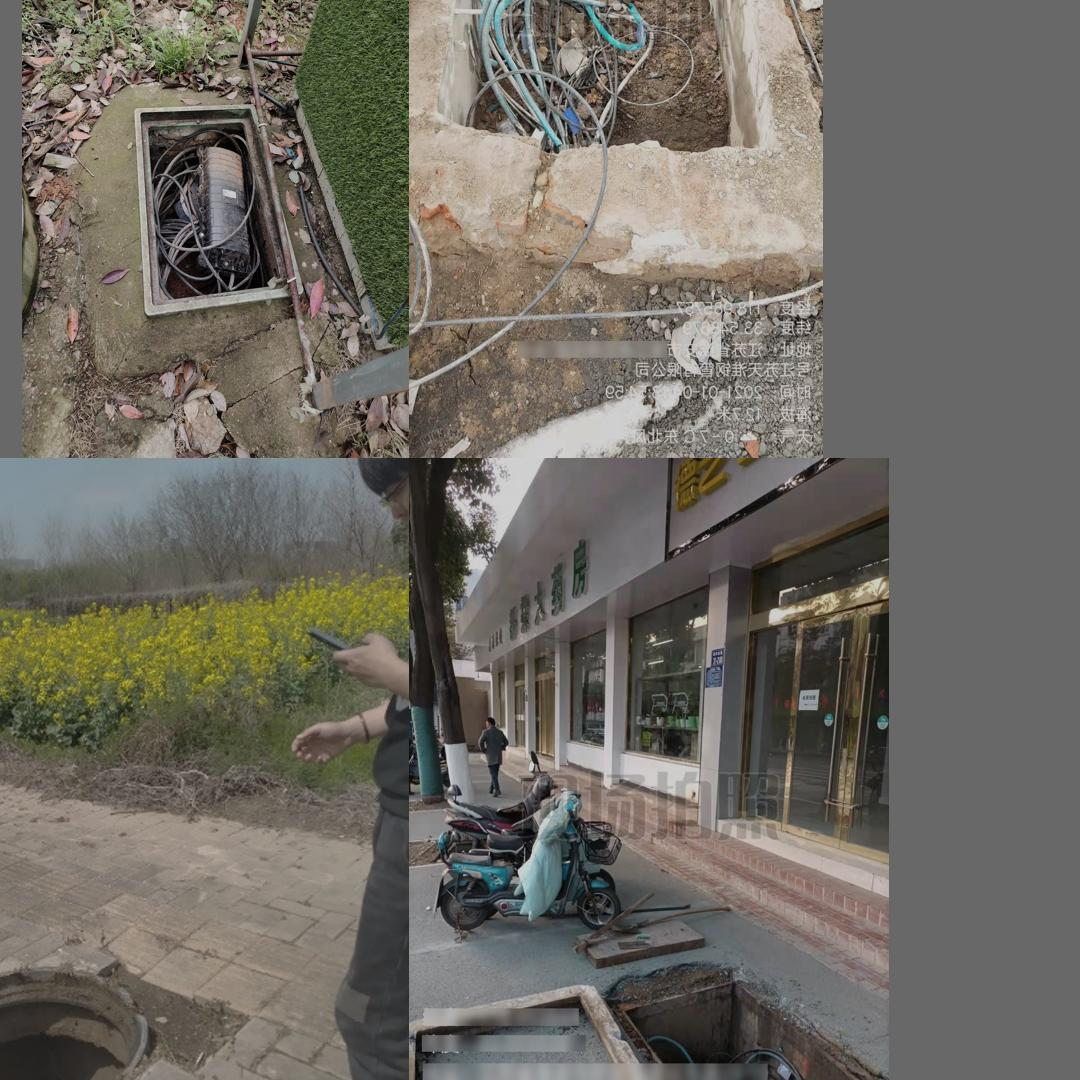lose: (423, 0, 777, 156), (134, 102, 303, 319), (610, 974, 887, 1080), (0, 969, 149, 1080)
